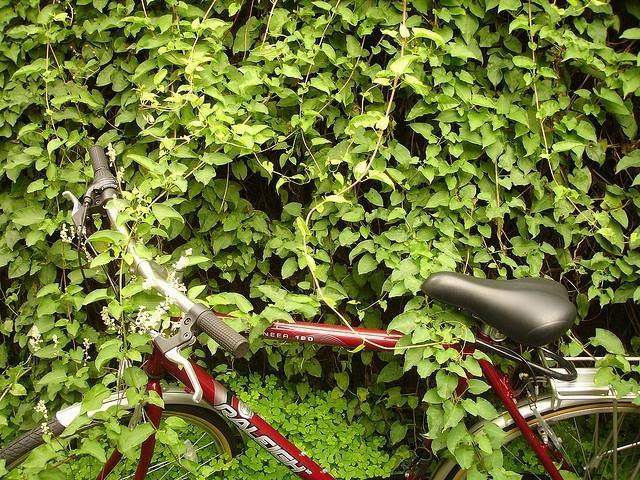bicycle: (5, 147, 640, 475)
